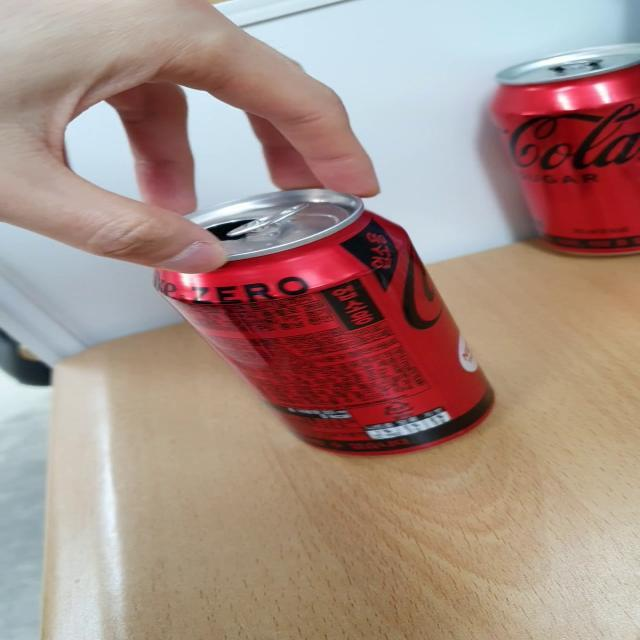coca-cola: (147, 180, 526, 472), (480, 40, 640, 268)
